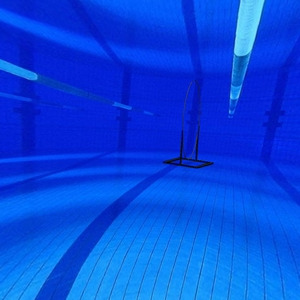circle: (162, 78, 217, 173)
